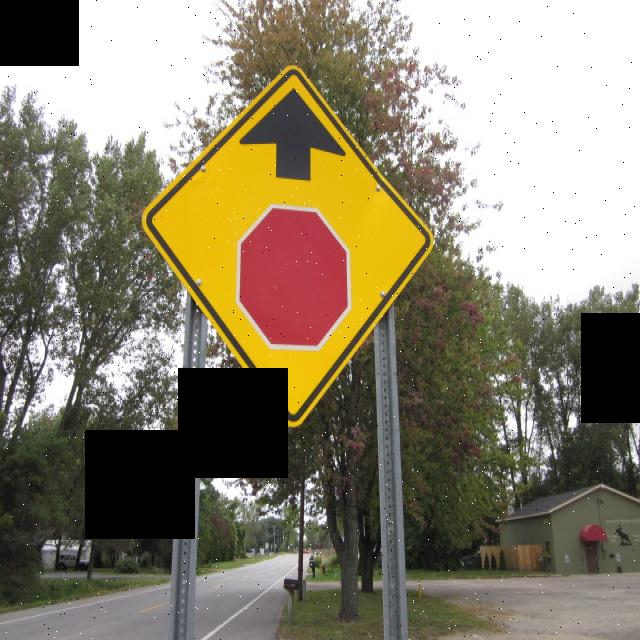stop: (235, 205, 353, 352)
warning: (134, 52, 438, 436)
